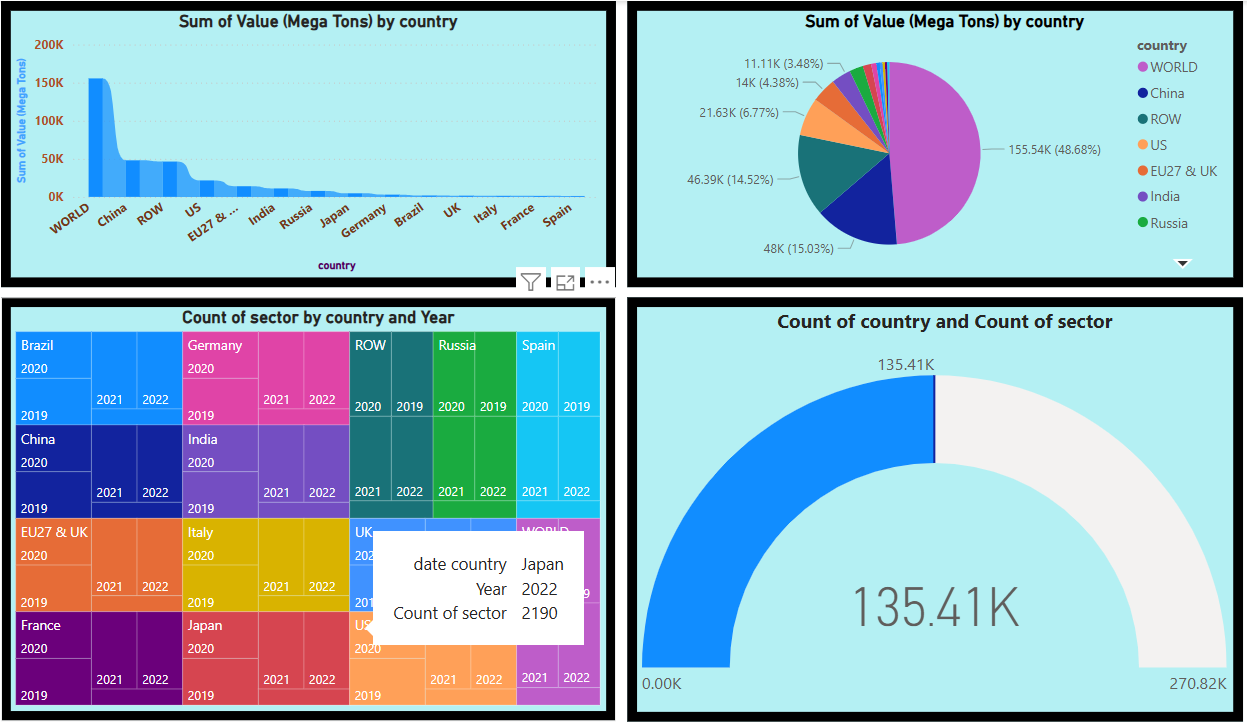

This screenshot's page, from the dashboard's own definition file:
{"tool":"powerbi","page":{"name":"Page 2","canvas":[1280,720],"ordinal":1},"visuals":[{"type":"ribbonChart","fields":{"Y":["Sum(dataset. Value (Mega Tons))"],"Category":["dataset.country"]},"box":[9.8,0,601.6,280],"z":0},{"type":"treemap","fields":{"Group":["dataset.country"],"Details":["dataset.date.Variation.Date Hierarchy.Year"],"Values":["CountNonNull(dataset.sector)"]},"box":[9.8,289.8,601.6,414.5],"z":1000},{"type":"pieChart","fields":{"Y":["Sum(dataset. Value (Mega Tons))"],"Category":["dataset.country"]},"box":[622,0,602,280],"z":2000},{"type":"gauge","fields":{"Y":["CountNonNull(dataset.country)"],"TargetValue":["CountNonNull(dataset.sector)"]},"box":[622,290,602,415],"z":3000}]}

Visuals, with their boxes in screenshot pixels (x1, y1, x2, y2), scaled from the page's 1280x720 canvas onto the 1247x723 screenshot:
ribbonChart - Sum(dataset. Value (Mega Tons)) x dataset.country: 10 0 596 281
treemap - dataset.country x dataset.date.Variation.Date Hierarchy.Year: 10 291 596 707
pieChart - Sum(dataset. Value (Mega Tons)) x dataset.country: 606 0 1192 281
gauge - CountNonNull(dataset.country) x CountNonNull(dataset.sector): 606 291 1192 708
